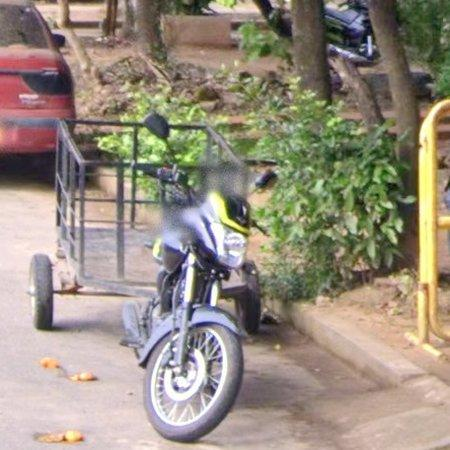motorcycles: (121, 165, 260, 442)
